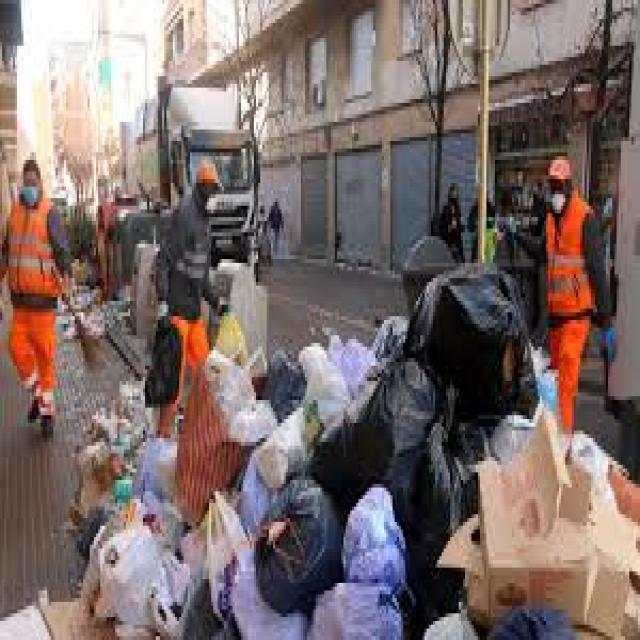garbage: (85, 274, 640, 640)
